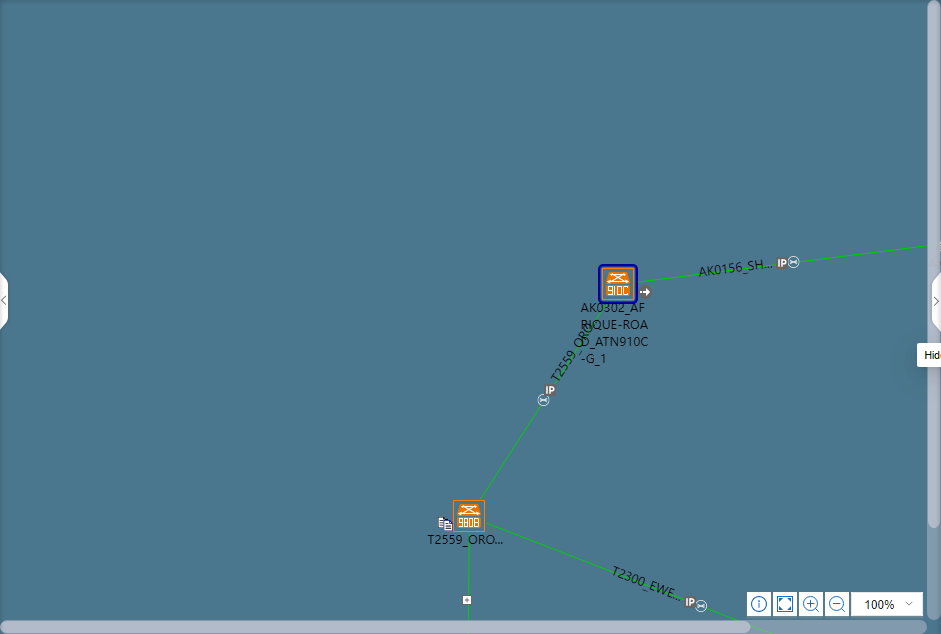ATN_Orange: (453, 503, 483, 532), (604, 271, 632, 297)
Link_Green: (479, 305, 607, 500), (486, 522, 738, 620), (638, 244, 926, 284), (468, 534, 470, 620)
